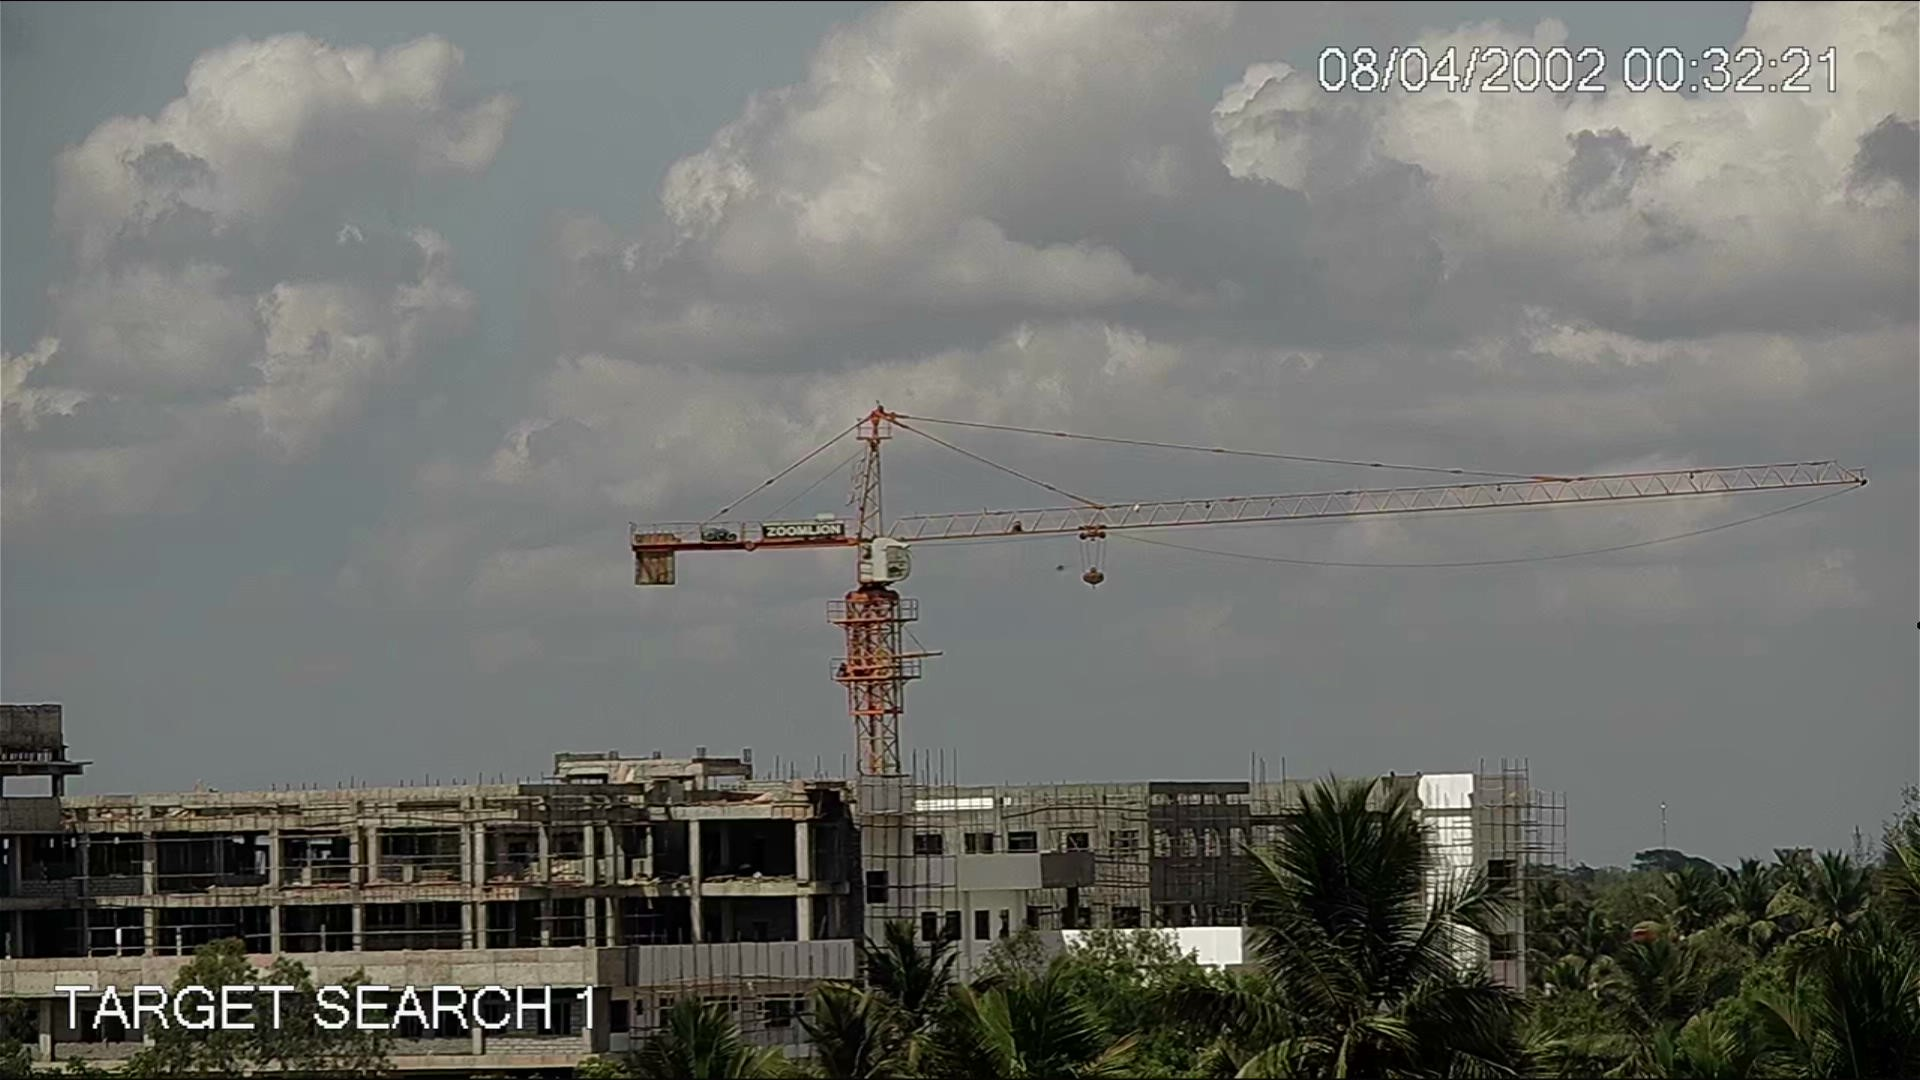SU_30: (1054, 560, 1072, 574)
